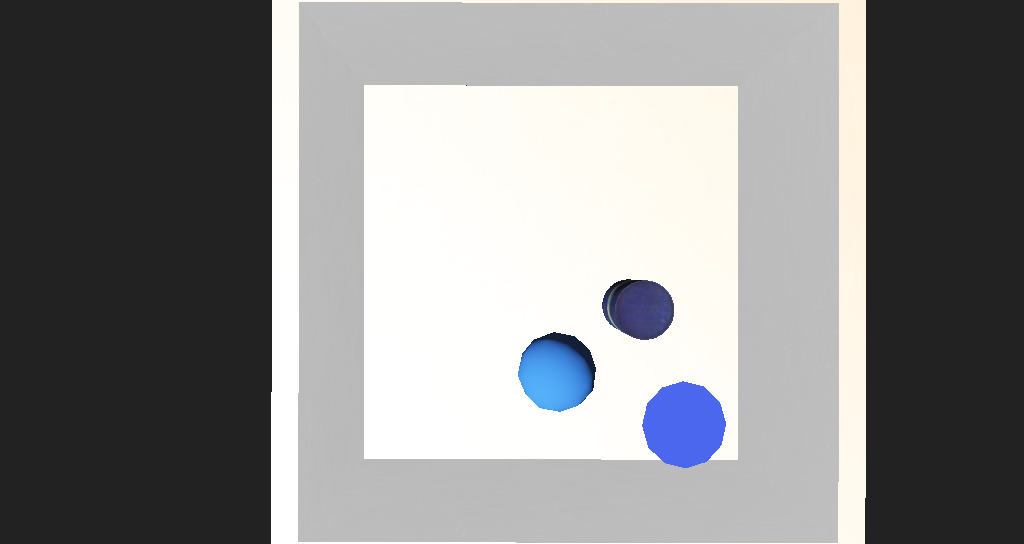cone: (546, 274, 600, 308)
cylinder: (569, 327, 643, 379)
sphere: (482, 301, 542, 348)
